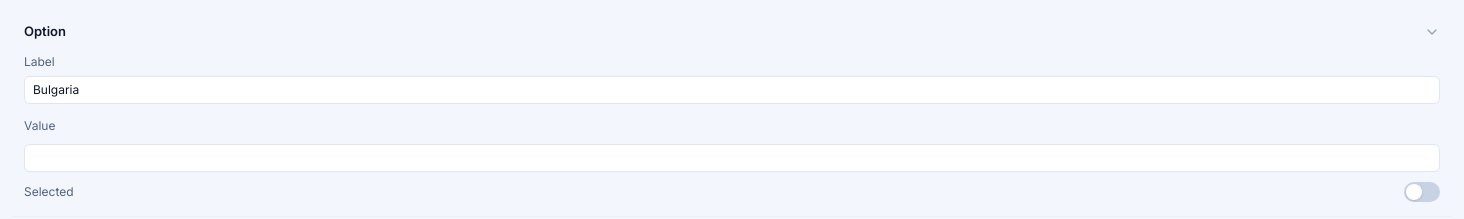
Test: InspectorOptionSection (Checkpoint 1.13) › Escape reverts an in-progress Label edit without committing
Replace the text in the field labelled "Label" with "something else entirely". click: (732, 90)
box: left=24, top=76, right=1440, bottom=104
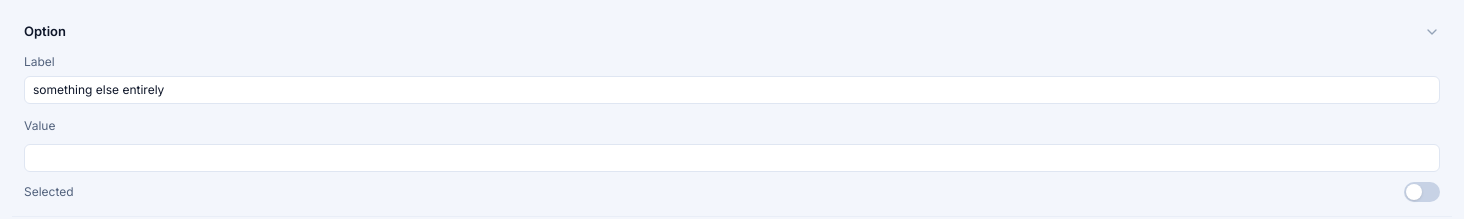
Press Escape in the field labelled "Label", box left=24, top=76, right=1440, bottom=104
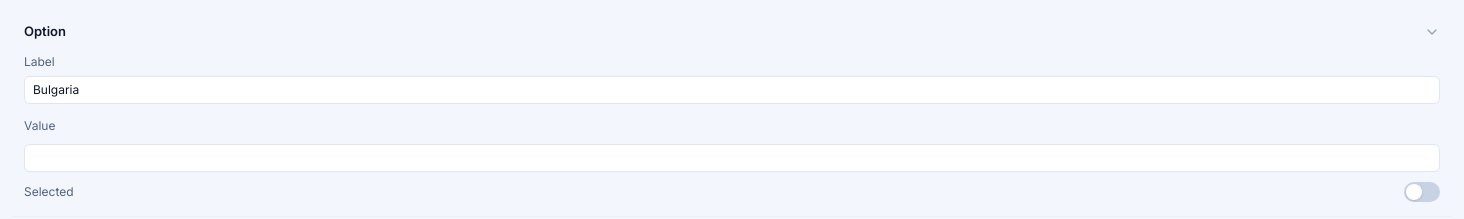
Expected: the field labelled "Label" holds "Bulgaria", left=24, top=76, right=1440, bottom=104
